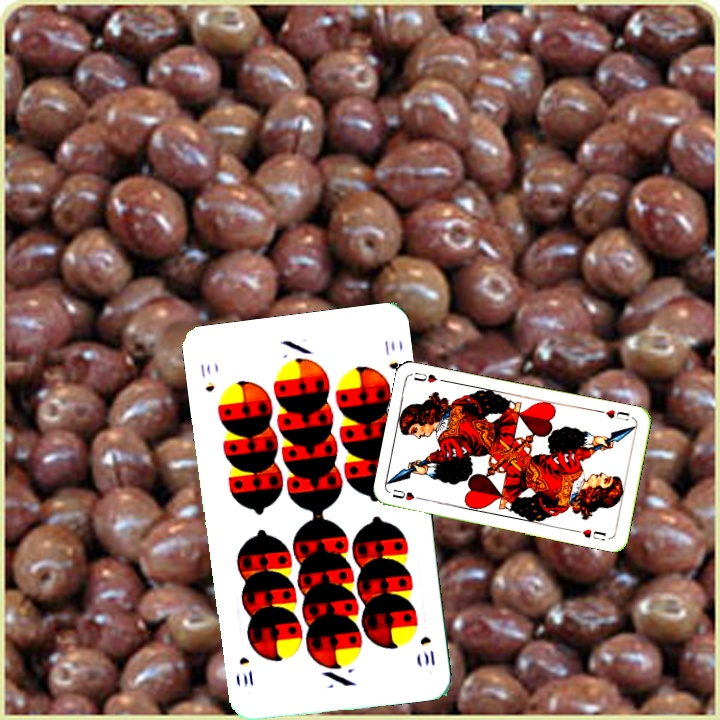HU: (388, 485, 427, 503), (595, 405, 632, 423)
S10: (416, 632, 438, 669), (196, 360, 217, 394)
